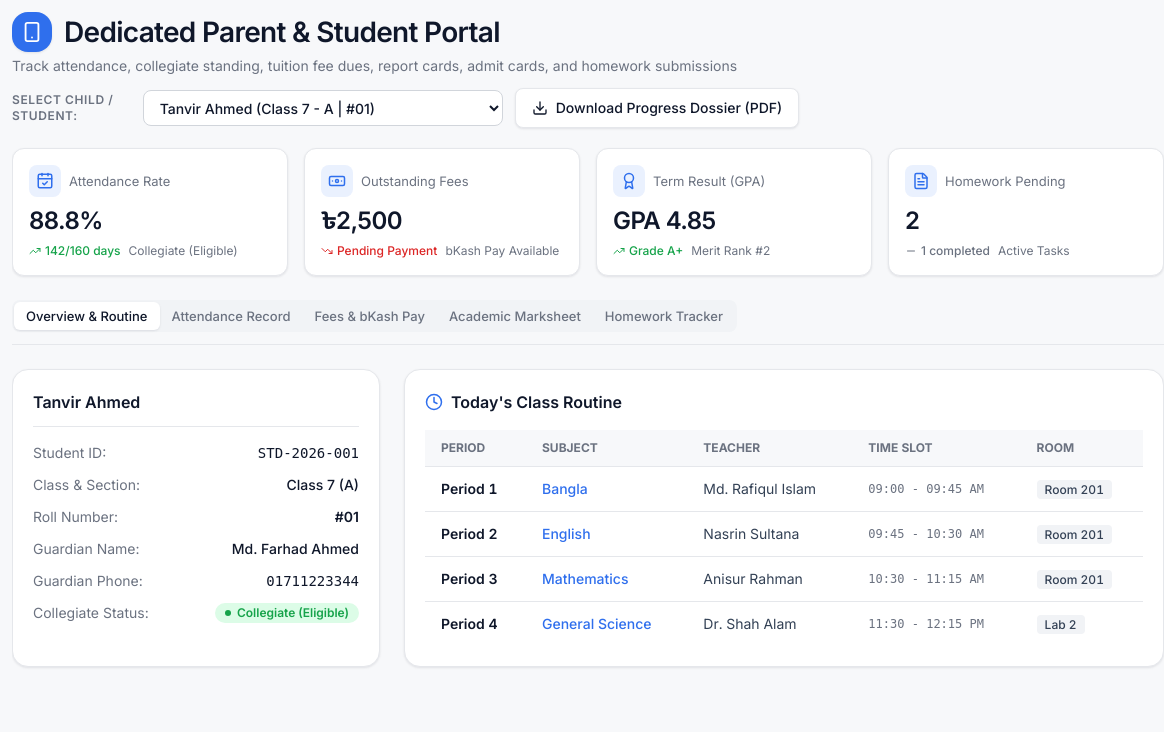
Test case: ParentPortal Component (Phase 20: Dedicated Parent & Student Portal) › switches between children and dynamically updates KPIs
Switch to Nusrat Jahan (STD-2026-042)
Select "Nusrat Jahan (Class 4 - B | #04)" in the dropdown at x=323, y=108, box [143,90,503,126]
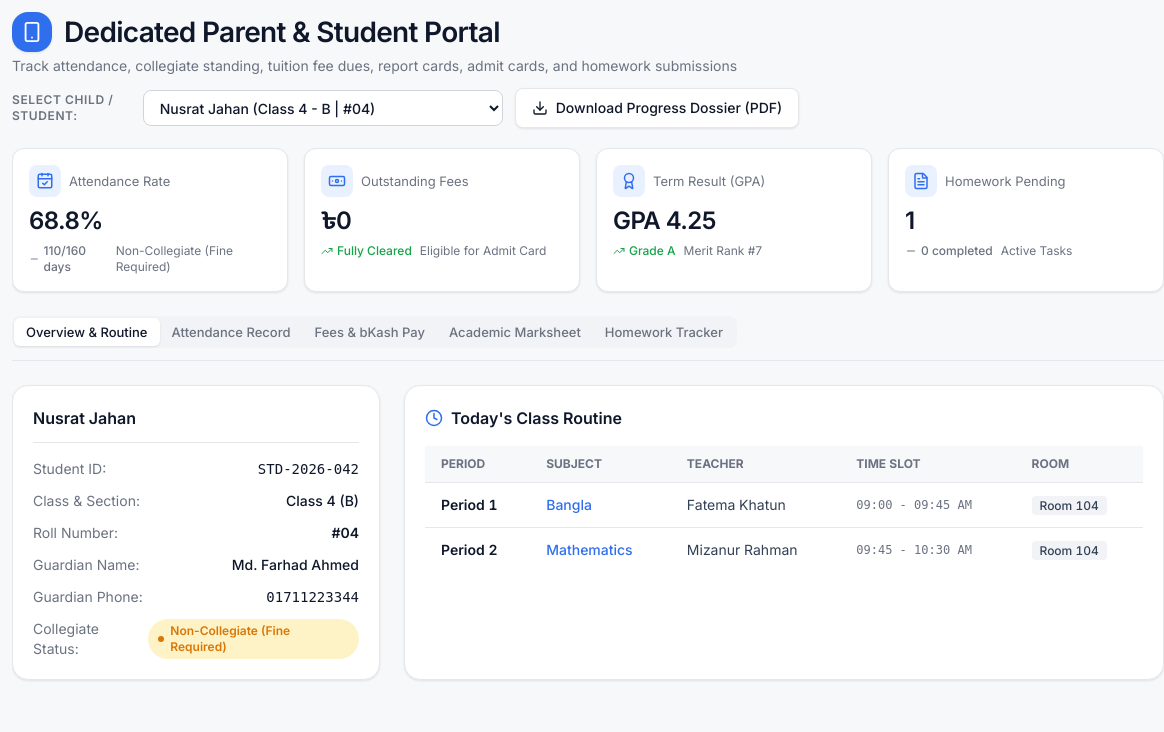
Now the text "68.8%" is shown, box [29,206,103,235]
Now the text "৳0" is shown, box [321,206,351,235]
Now the text "GPA 4.25" is shown, box [613,206,716,235]
